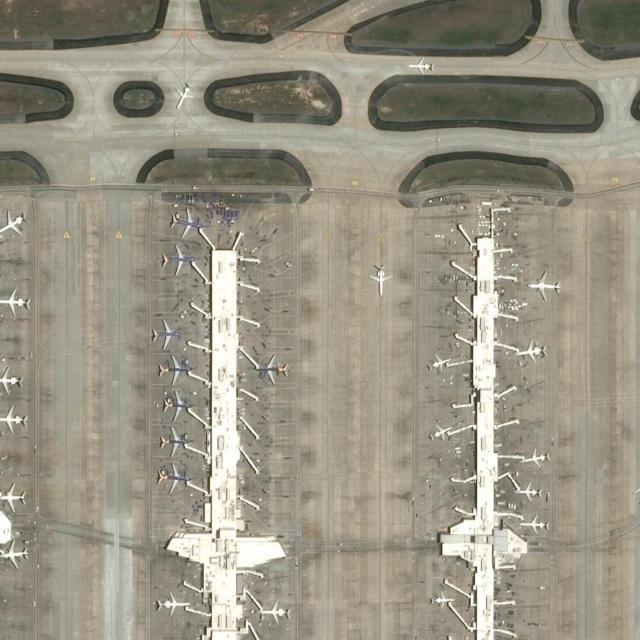Aircraft: (157, 244, 202, 280), (152, 462, 195, 494), (156, 355, 199, 387), (157, 426, 197, 460), (248, 353, 290, 385), (147, 318, 187, 351), (164, 206, 204, 239), (154, 590, 194, 622), (157, 389, 197, 421), (527, 271, 563, 303), (252, 600, 293, 628), (510, 338, 549, 366), (0, 540, 30, 572), (1, 288, 31, 320), (1, 210, 31, 242), (169, 79, 197, 113), (405, 54, 439, 82), (0, 484, 30, 514), (1, 404, 31, 434), (368, 263, 392, 299), (513, 482, 547, 507), (518, 514, 552, 538), (518, 446, 552, 470), (0, 365, 26, 395), (423, 353, 453, 377), (428, 591, 459, 612), (425, 424, 455, 444), (632, 475, 640, 507)
